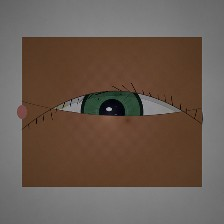pinguecula_lesion: (34, 87, 80, 123)
